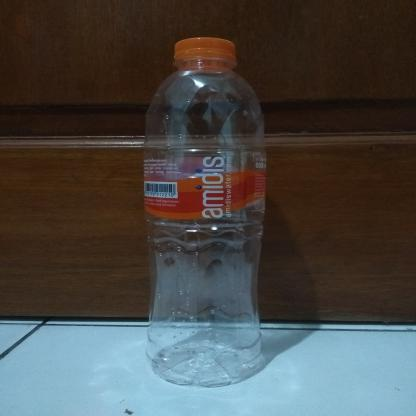bottle: (141, 33, 268, 391)
